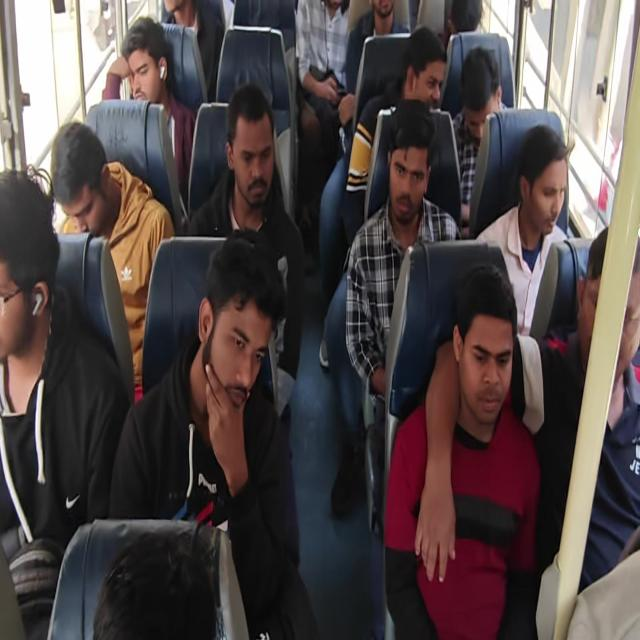person: (198, 257, 267, 424), (448, 267, 518, 431), (0, 170, 54, 367), (578, 235, 640, 392), (52, 122, 112, 246), (518, 131, 578, 249), (228, 104, 278, 210), (458, 46, 502, 152), (396, 41, 447, 122), (115, 22, 165, 104), (386, 132, 427, 225), (442, 0, 484, 50), (364, 0, 396, 26), (159, 0, 193, 18)
